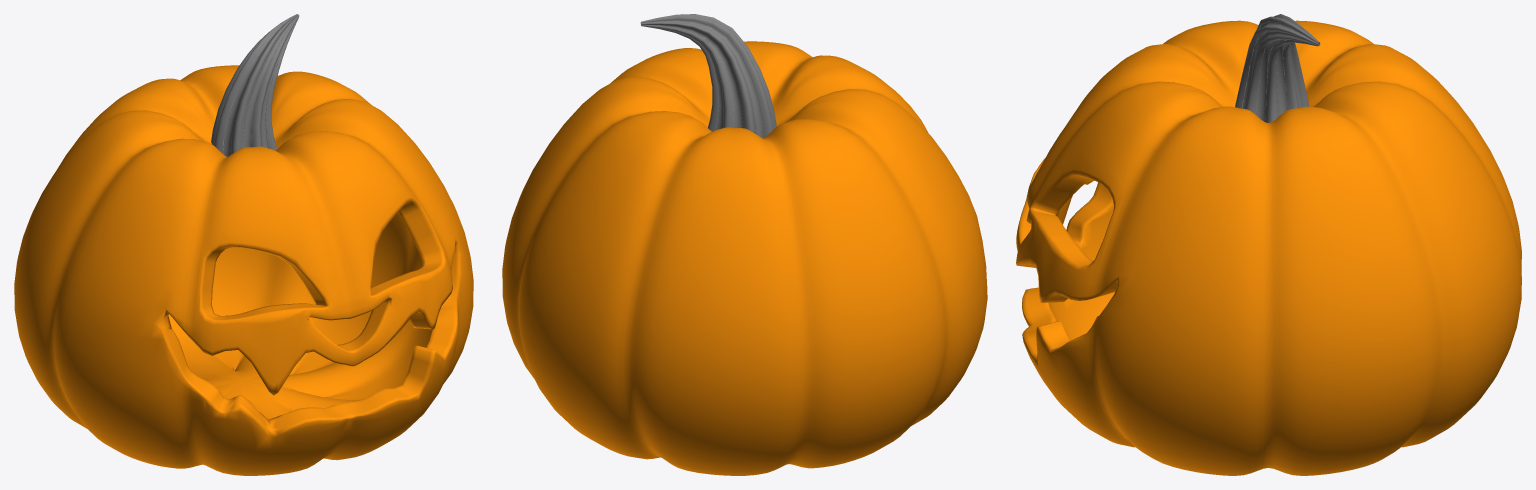
File: nanguadeng.FBX
3 renders of one model, left to right at view 1: azimuth 30°, elevation 25°; view 2: azimuth 150°, elevation 25°; view 3: azimuth 270°, elevation 25°, orthographic. The views are drawn at different scales.
Parts seen in each view (by area): view 1: Sphere007, Loft004; view 2: Sphere007, Loft004; view 3: Sphere007, Loft004.
Part boxes in pixels (x1,y1,x2,y2): Sphere007: (14, 65, 473, 475); Loft004: (211, 14, 299, 156); Sphere007: (502, 41, 987, 475); Loft004: (640, 14, 776, 138); Sphere007: (1016, 20, 1521, 475); Loft004: (1235, 14, 1320, 122).
Size of the model in its own units: 258 by 237 by 258.
